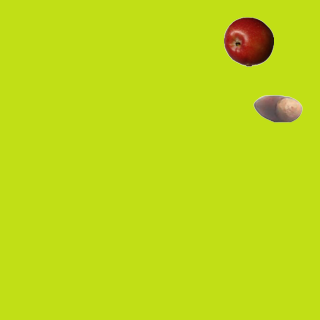Apple Braeburn: (223, 16, 273, 66)
Hazelnut: (252, 83, 302, 133)
